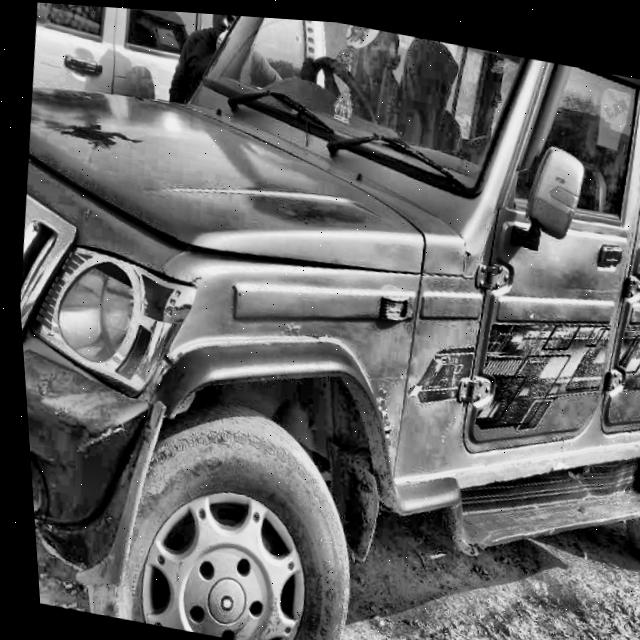light_vehicle: (0, 0, 640, 632)
